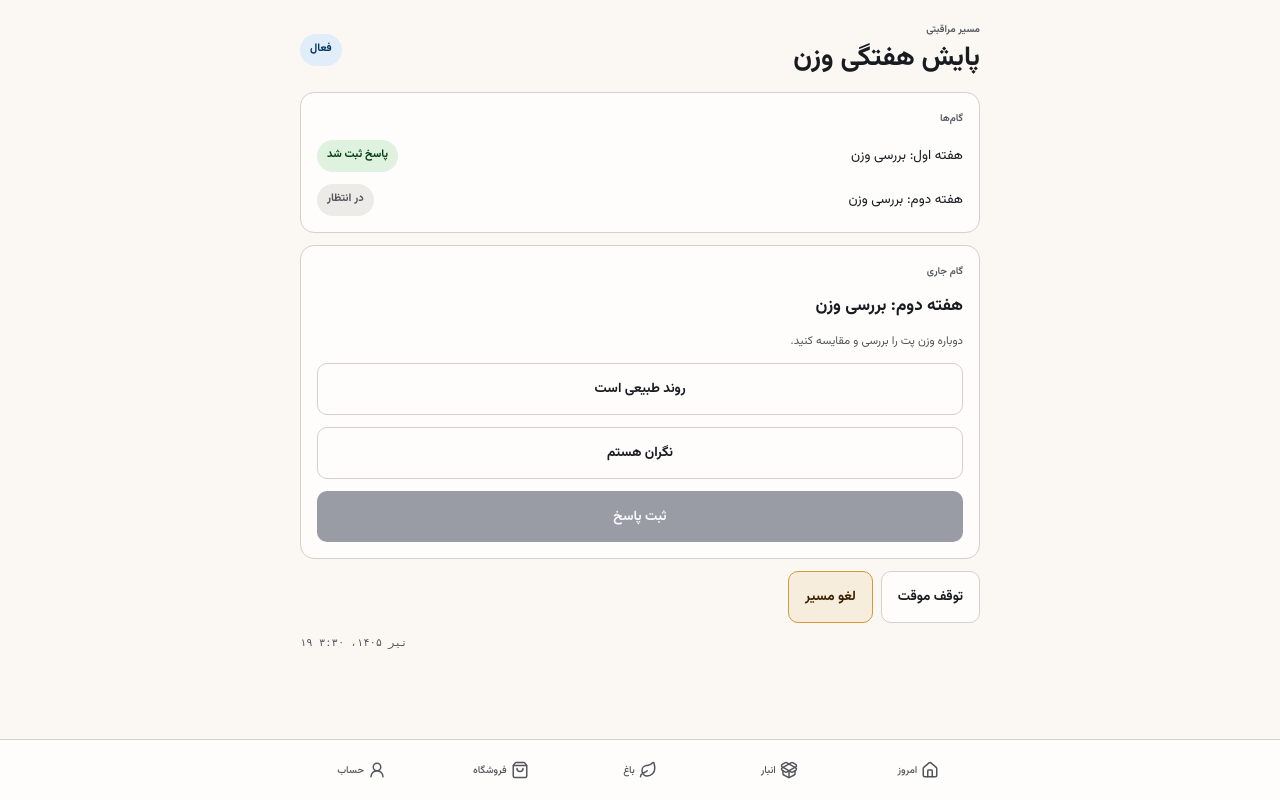
JourneyActive › surfaces the diary entry and Garden reward when the backend auto-completes the journey on the final check-in, without a separate manual completion step
The image size is (1280, 800).
What coordinates should you click on to do the following:
click the button "روند طبیعی است"
I would click on:
 (640, 389)
Its box is [317, 363, 963, 415].
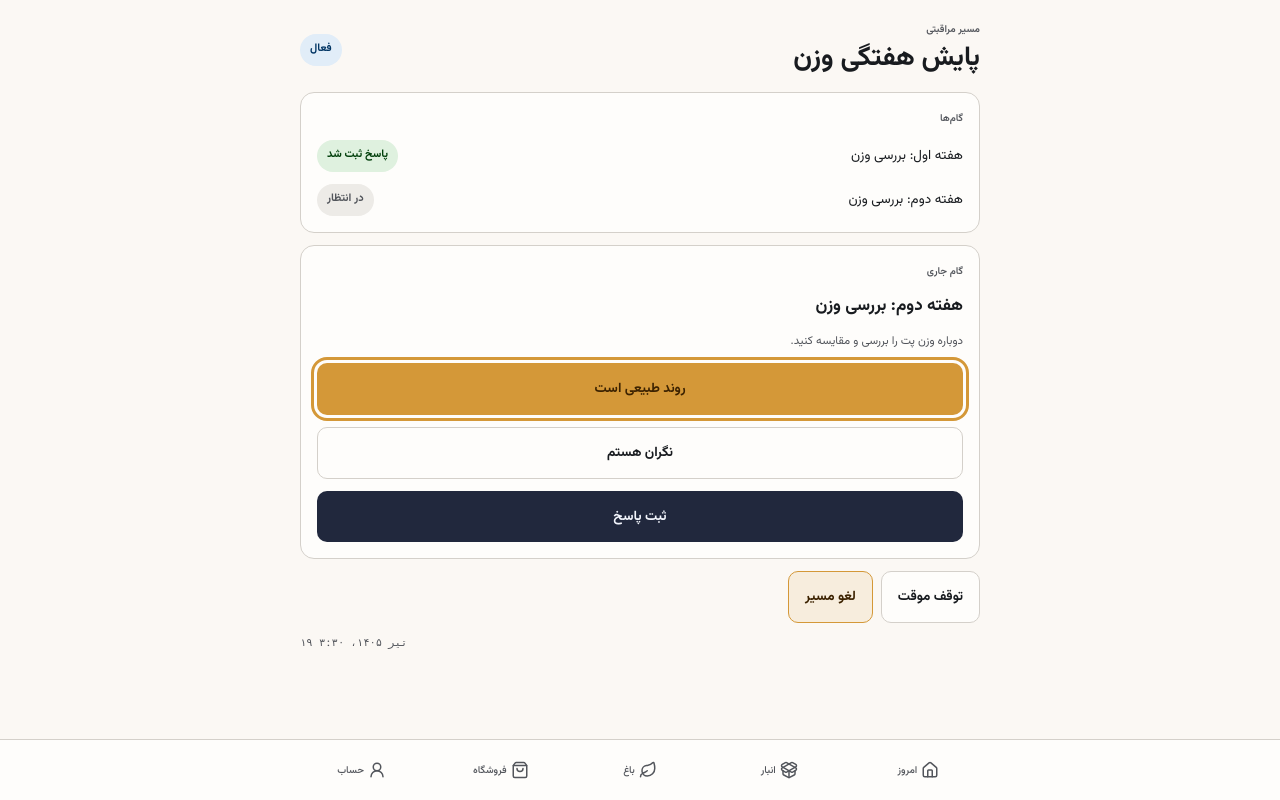
What coordinates should you click on to do the following:
click the button "ثبت پاسخ"
I would click on:
 (640, 516)
Its box is [317, 490, 963, 542].
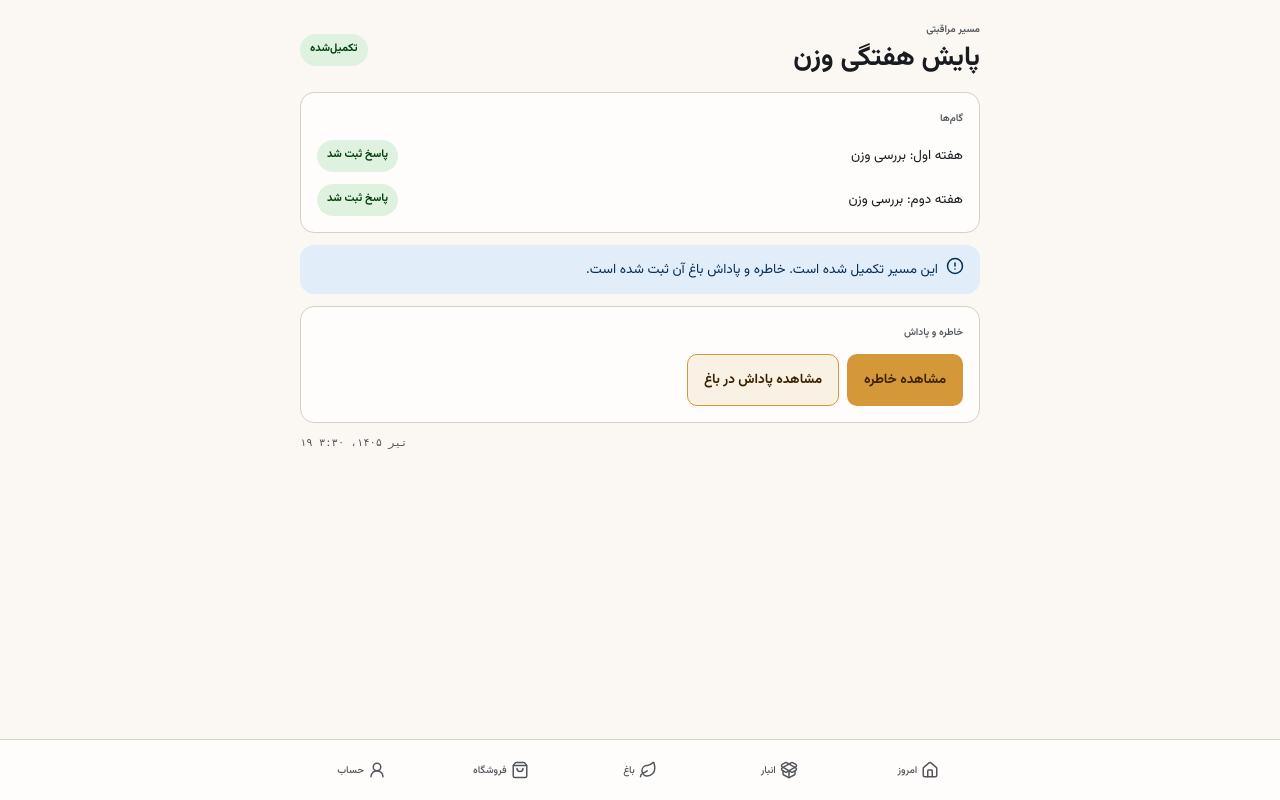
Expected: the text "این مسیر تکمیل شده است. خاطره و پاداش باغ آن ثبت شده است." is shown, [586, 256, 938, 282]
